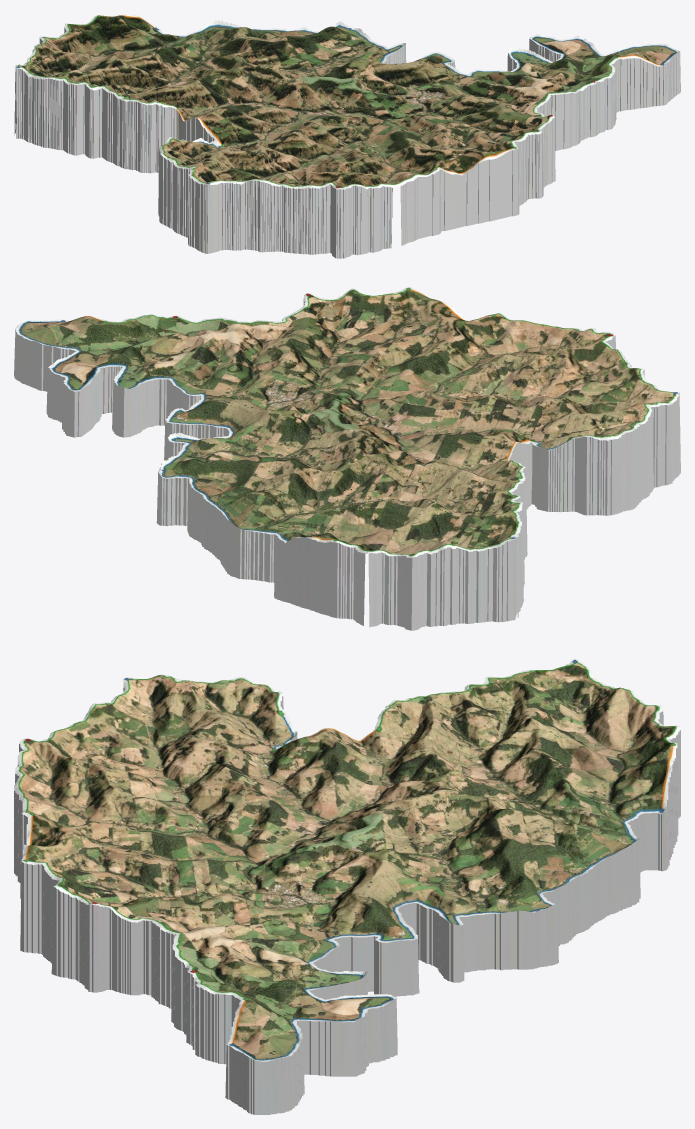
3 views of the same model, one above another, from view 1: azimuth 30°, elevation 25°; view 2: azimuth 150°, elevation 25°; view 3: azimuth 270°, elevation 25° (orthographic). The views are drawn at different scales.
Bounding box in the file's own units: 1 × 0.1235 × 0.7806.
Materials: 1 (1 with a texture image).
